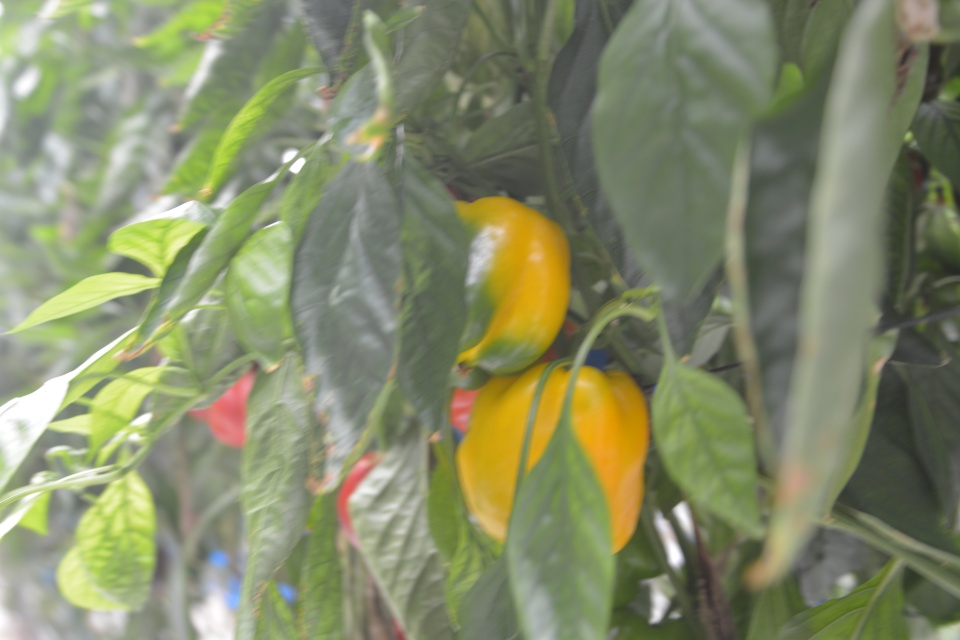fruit: (455, 362, 648, 556), (452, 194, 574, 375), (184, 362, 260, 447)
